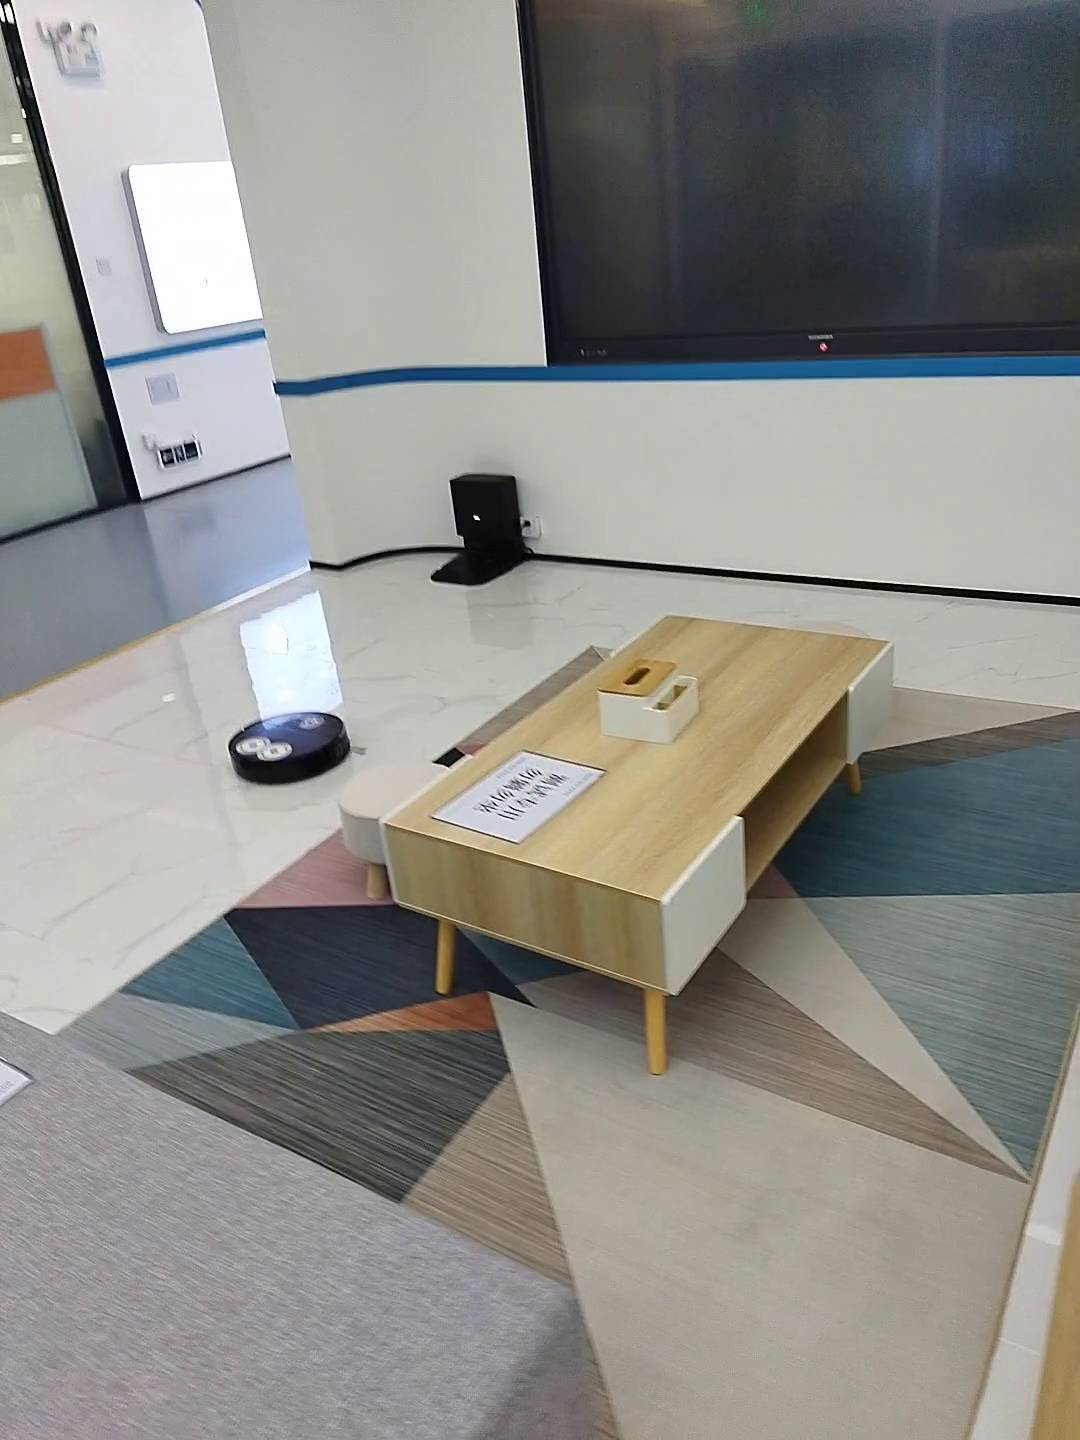dust collecting barrel: (429, 473, 531, 587)
